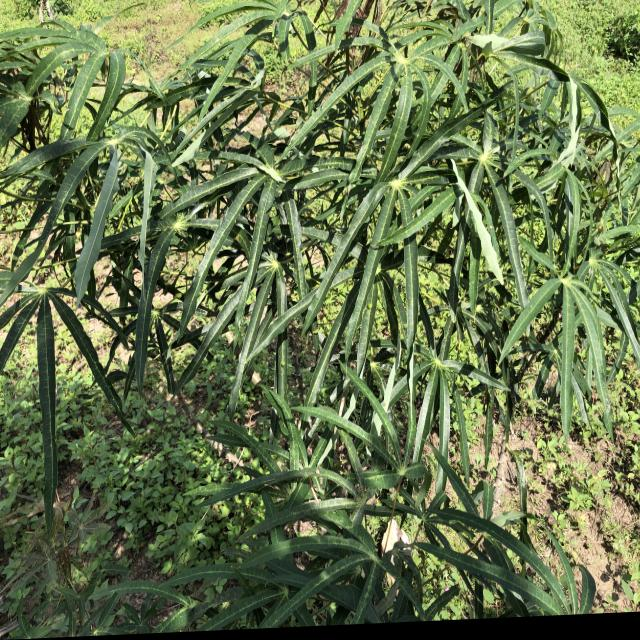Mosca: (306, 458, 327, 483), (247, 526, 265, 553), (15, 88, 36, 109), (392, 490, 404, 518), (276, 352, 288, 376), (11, 122, 27, 137), (194, 82, 210, 97), (219, 596, 234, 611)
